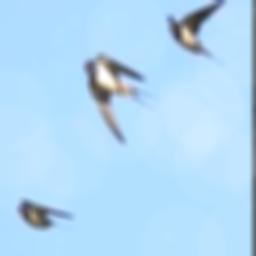Swallow: (83, 52, 159, 142), (168, 0, 226, 67), (18, 199, 75, 230)
